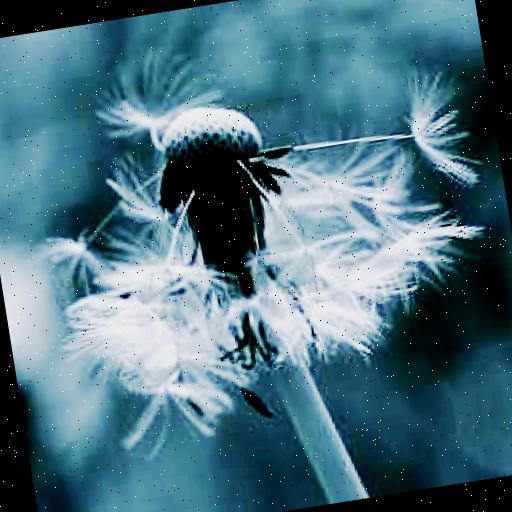dandelion: (23, 10, 512, 435)
